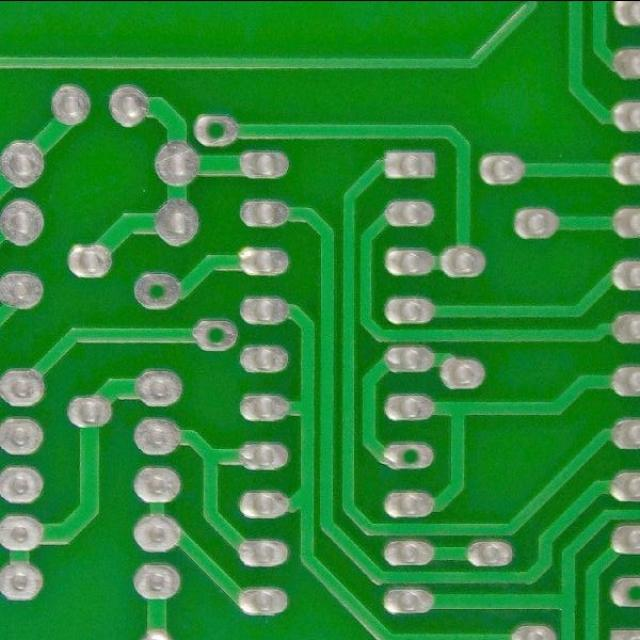Missing_Hole: (127, 268, 187, 314), (188, 315, 243, 355), (189, 112, 243, 150), (382, 438, 438, 472), (607, 573, 640, 611)
